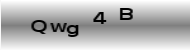4: (91, 11, 106, 25)
B: (118, 7, 133, 20)
Q: (30, 19, 47, 34)
g: (66, 24, 79, 37)
w: (49, 22, 67, 32)
